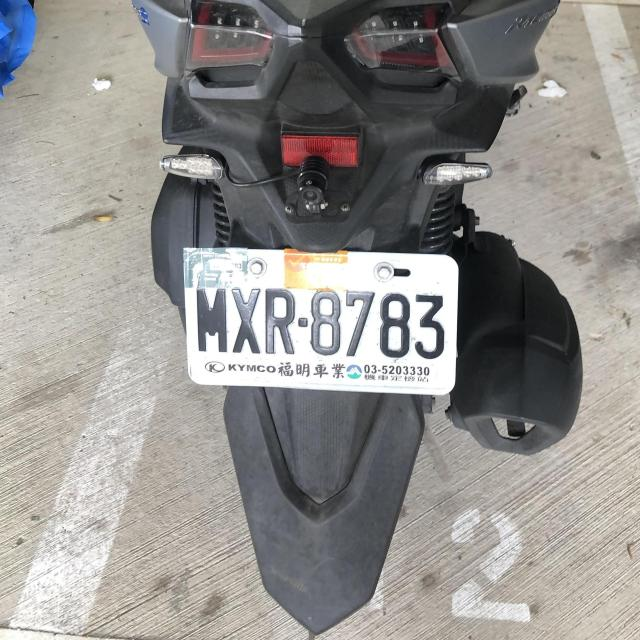W: (180, 239, 458, 399)
